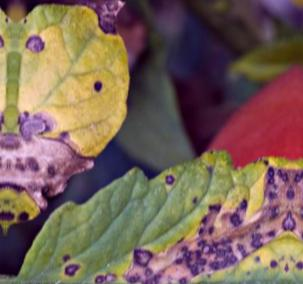Tomato Septoria leaf spot: (2, 130, 294, 284), (4, 0, 135, 252)
